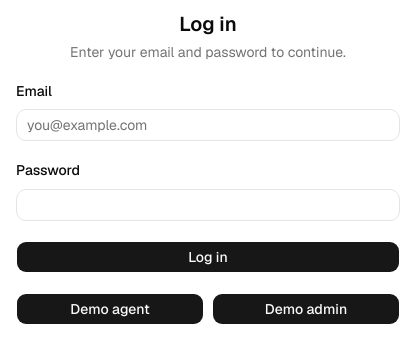
Test: demo account buttons › autofill the matching seeded credentials without submitting
The image size is (417, 341).
What coordinates should you click on to do the following:
click the button "Demo agent"
I would click on:
 (110, 308)
Its box is [16,292,204,324].
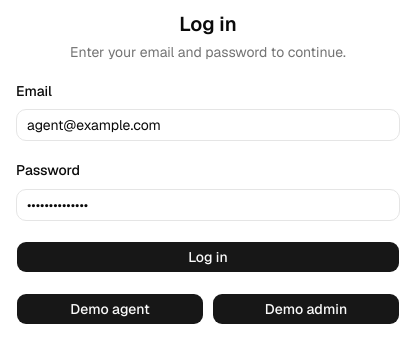
Now the field labelled "Email" holds "agent@example.com", box [16,109,400,141]
Now the password field labelled "Password" holds "agent-password", box [16,188,400,220]
What coordinates should you click on to do the following:
click the button "Demo admin"
I would click on:
 (306, 308)
Its box is [212,292,400,324].
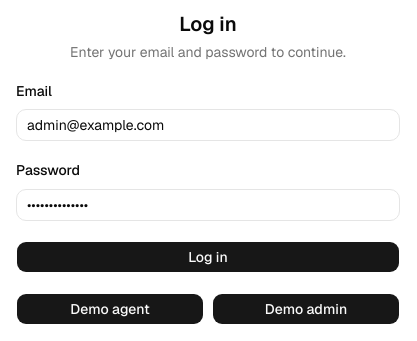
Expected: the password field labelled "Password" holds "admin-password", [16,188,400,220]
Now the field labelled "Email" holds "admin@example.com", box [16,109,400,141]
